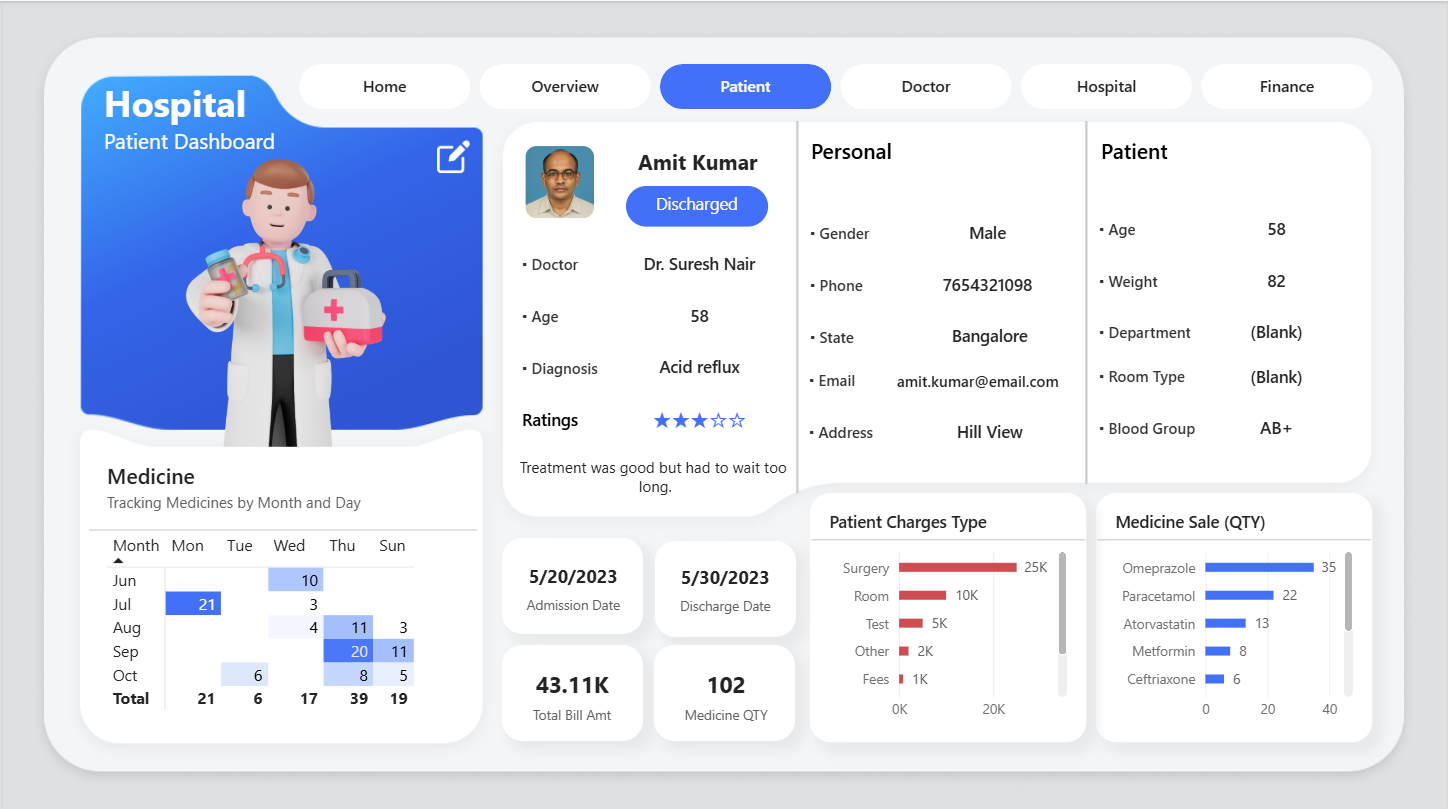

Layout of this report page (visuals, bound fields, positions):
{"tool":"powerbi","page":{"name":"Patient","canvas":[1280,720],"ordinal":2},"visuals":[{"type":"shape","box":[442.1,476.2,125.4,85.3],"z":0},{"type":"shape","box":[578.5,478.6,125.4,85.3],"z":1000},{"type":"shape","box":[442.1,571.2,125.4,85.3],"z":2000},{"type":"shape","box":[577.3,571.2,125.4,85.3],"z":3000},{"type":"card","fields":{"Values":["Key Measures.Total_Bill_Amt"]},"box":[444.5,576.1,120.6,80.4],"z":4000},{"type":"card","fields":{"Values":["Key Measures.Total_Med_Sale_Qty"]},"box":[580.9,576.1,120.6,80.4],"z":5000},{"type":"card","fields":{"Values":["Min(patient_info.patient_admission_date)"]},"box":[445.7,481.1,119.4,79.2],"z":6000},{"type":"card","fields":{"Values":["Min(patient_info.patient_discharge_date)"]},"box":[580.9,482.3,119.4,79.2],"z":7000},{"type":"image","box":[104.6,115.3,280.2,280.2],"z":8000},{"type":"textbox","box":[89.6,68.3,164,75.4],"z":9000},{"type":"image","box":[384.8,120.6,29.3,34.6],"z":10000},{"type":"pivotTable","title":"Medicine","fields":{"Values":["Sum(medicine_patient.qty)"],"Columns":["Calendar.Day"],"Rows":["Calendar.Month"]},"box":[76.4,394.9,344.4,262.1],"z":12000},{"type":"clusteredBarChart","title":"Medicine Sale (QTY)","fields":{"Y":["Sum(medicine_patient.qty)"],"Category":["medical_stock_info.name"]},"box":[969.6,436.4,244.9,220.7],"z":13000},{"type":"clusteredBarChart","title":"Patient Charges Type","fields":{"Category":["Bills.Charge_Type"],"Y":["Sum(Bills.Value)"]},"box":[715.6,436.4,244.9,220.7],"z":14000},{"type":"cardVisual","fields":{"Data":["Min(patient_info.patient_Img)"]},"box":[460.3,120.5,74.8,80],"z":15000},{"type":"card","fields":{"Values":["Min(patient_info.patient_name)"]},"box":[536.1,126.8,159,35.3],"z":16000},{"type":"card","fields":{"Values":["Min(patient_info.patient_status)"]},"box":[552.7,164.2,125.7,36.4],"z":17000},{"type":"shape","box":[460.3,213,75,40],"z":18000},{"type":"shape","box":[460.3,259,75,40],"z":19000},{"type":"shape","box":[460.3,305.1,75,40],"z":20000},{"type":"card","fields":{"Values":["Min(patient_info.doctor_name)"]},"box":[540.3,215.7,155,40],"z":21000},{"type":"card","fields":{"Values":["Sum(patient_info.patient_age)"]},"box":[540.3,261.4,155,40],"z":22000},{"type":"card","fields":{"Values":["Min(appointment.diagnosis)"]},"box":[540.3,307.1,155,40],"z":23000},{"type":"card","fields":{"Values":["Key Measures.star rating"]},"box":[540.3,352.8,155,40],"z":24000},{"type":"shape","box":[460.3,351.2,75,40],"z":25000},{"type":"card","fields":{"Values":["Min(patient_info.satisfaction_feedback)"]},"box":[454,391.7,245.2,61.3],"z":26000},{"type":"shape","box":[696.1,106,16.6,330.4],"z":27000},{"type":"shape","box":[952.7,106,16.6,322],"z":28000},{"type":"shape","box":[715.5,185.6,75,40],"z":29000},{"type":"shape","box":[715.5,231.6,75,40],"z":30000},{"type":"shape","box":[715.5,277.7,75,40],"z":31000},{"type":"card","fields":{"Values":["Min(patient_info.patient_gender)"]},"box":[795.5,188.3,155,40],"z":32000},{"type":"card","fields":{"Values":["Min(patient_info.patient_phone)"]},"box":[795.5,234,155,40],"z":33000},{"type":"card","fields":{"Values":["Min(patient_info.patient_state)"]},"box":[795.5,279.7,155,40],"z":34000},{"type":"shape","box":[971.4,181.8,89.4,40.5],"z":35000},{"type":"shape","box":[971.7,228.1,75,40],"z":36000},{"type":"shape","box":[971.4,274.3,89.4,39.5],"z":37000},{"type":"card","fields":{"Values":["Sum(patient_info.patient_age)"]},"box":[1051.7,184.8,155,40],"z":38000},{"type":"card","fields":{"Values":["Sum(patient_info.patient_weight)"]},"box":[1051.7,230.5,155,40],"z":39000},{"type":"card","fields":{"Values":["Min(patient_info.department_name)"]},"box":[1051.7,276.2,155,40],"z":40000},{"type":"shape","box":[714.9,316.7,63.3,39],"z":41000},{"type":"shape","box":[715.1,362.2,75,40],"z":42000},{"type":"card","fields":{"Values":["Min(patient_info.patient_email)"]},"box":[778.2,319.1,171.7,40.2],"z":43000},{"type":"card","fields":{"Values":["Min(patient_info.patient_address)"]},"box":[795.1,364.5,155,40],"z":44000},{"type":"shape","box":[971.4,312.7,80,39.5],"z":45000},{"type":"shape","box":[971.4,358.4,89.4,40.5],"z":46000},{"type":"card","fields":{"Values":["Min(patient_info.room_room_type)"]},"box":[1051.3,315.3,155,40],"z":47000},{"type":"card","fields":{"Values":["Min(patient_info.patient_blood_group)"]},"box":[1051.3,361,155,40],"z":48000},{"type":"shape","box":[716.9,113.2,74.8,39.5],"z":49000},{"type":"shape","box":[973.5,113.2,74.8,39.5],"z":50000},{"type":"pageNavigator","box":[262,55.4,952.4,40.3],"z":50501}]}

Visuals, with their boxes in screenshot pixels (x1, y1, x2, y2), scaled from the page's 1280x720 canvas onto the 1448x809 screenshot:
shape: <region>500, 535, 642, 631</region>
shape: <region>654, 538, 796, 634</region>
shape: <region>500, 642, 642, 738</region>
shape: <region>653, 642, 795, 738</region>
card - Key Measures.Total_Bill_Amt: <region>503, 647, 639, 738</region>
card - Key Measures.Total_Med_Sale_Qty: <region>657, 647, 794, 738</region>
card - Min(patient_info.patient_admission_date): <region>504, 541, 639, 630</region>
card - Min(patient_info.patient_discharge_date): <region>657, 542, 792, 631</region>
image: <region>118, 130, 435, 444</region>
textbox: <region>101, 77, 287, 161</region>
image: <region>435, 136, 468, 174</region>
"Medicine" pivotTable: <region>86, 444, 476, 738</region>
"Medicine Sale (QTY)" clusteredBarChart: <region>1097, 490, 1374, 738</region>
"Patient Charges Type" clusteredBarChart: <region>810, 490, 1087, 738</region>
cardVisual - Min(patient_info.patient_Img): <region>521, 135, 605, 225</region>
card - Min(patient_info.patient_name): <region>606, 142, 786, 182</region>
card - Min(patient_info.patient_status): <region>625, 184, 767, 225</region>
shape: <region>521, 239, 606, 284</region>
shape: <region>521, 291, 606, 336</region>
shape: <region>521, 343, 606, 388</region>
card - Min(patient_info.doctor_name): <region>611, 242, 787, 287</region>
card - Sum(patient_info.patient_age): <region>611, 294, 787, 339</region>
card - Min(appointment.diagnosis): <region>611, 345, 787, 390</region>
card - Key Measures.star rating: <region>611, 396, 787, 441</region>
shape: <region>521, 395, 606, 440</region>
card - Min(patient_info.satisfaction_feedback): <region>514, 440, 791, 509</region>
shape: <region>787, 119, 806, 490</region>
shape: <region>1078, 119, 1097, 481</region>
shape: <region>809, 209, 894, 253</region>
shape: <region>809, 260, 894, 305</region>
shape: <region>809, 312, 894, 357</region>
card - Min(patient_info.patient_gender): <region>900, 212, 1075, 257</region>
card - Min(patient_info.patient_phone): <region>900, 263, 1075, 308</region>
card - Min(patient_info.patient_state): <region>900, 314, 1075, 359</region>
shape: <region>1099, 204, 1200, 250</region>
shape: <region>1099, 256, 1184, 301</region>
shape: <region>1099, 308, 1200, 353</region>
card - Sum(patient_info.patient_age): <region>1190, 208, 1365, 253</region>
card - Sum(patient_info.patient_weight): <region>1190, 259, 1365, 304</region>
card - Min(patient_info.department_name): <region>1190, 310, 1365, 355</region>
shape: <region>809, 356, 880, 400</region>
shape: <region>809, 407, 894, 452</region>
card - Min(patient_info.patient_email): <region>880, 359, 1075, 404</region>
card - Min(patient_info.patient_address): <region>899, 410, 1075, 455</region>
shape: <region>1099, 351, 1189, 396</region>
shape: <region>1099, 403, 1200, 448</region>
card - Min(patient_info.room_room_type): <region>1189, 354, 1365, 399</region>
card - Min(patient_info.patient_blood_group): <region>1189, 406, 1365, 451</region>
shape: <region>811, 127, 896, 172</region>
shape: <region>1101, 127, 1186, 172</region>
pageNavigator: <region>296, 62, 1374, 108</region>
